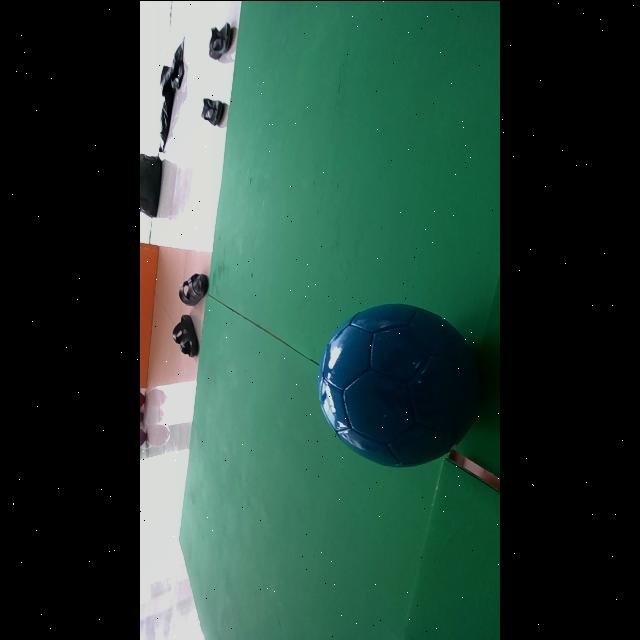B: (318, 303, 480, 467)
P: (140, 427, 146, 446), (140, 409, 143, 423)
R: (140, 390, 144, 407)
